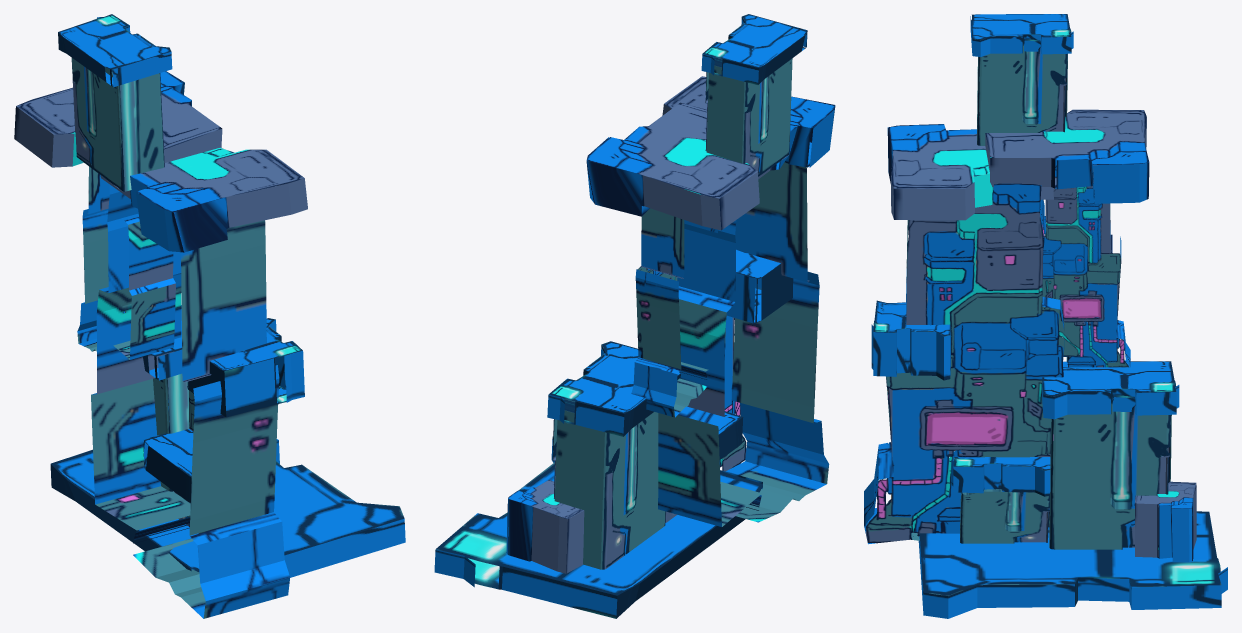
Rendered from 试验模型.fbx.
The picture shows the model from 3 angles, left to right: view 1: azimuth 30°, elevation 25°; view 2: azimuth 150°, elevation 25°; view 3: azimuth 270°, elevation 25°; orthographic projection. The views are drawn at different scales.
Parts seen in each view (by area): view 1: 平面.021; view 2: 平面.021; view 3: 平面.021.
Part boxes in pixels (<box>): 平面.021: <box>14,14,405,618</box>; 平面.021: <box>434,14,835,618</box>; 平面.021: <box>864,14,1227,618</box>.
Size of the model in its own units: 1.96 by 3.54 by 2.37.
